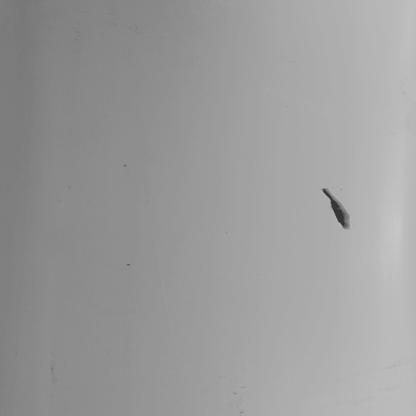kongdong: (320, 186, 357, 231)
